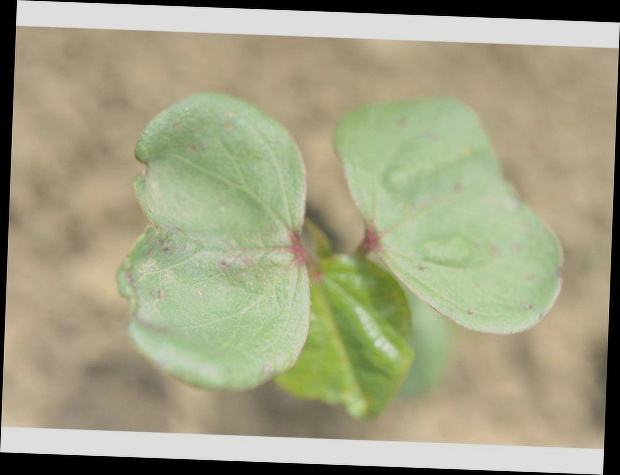cotton: (116, 92, 565, 421)
